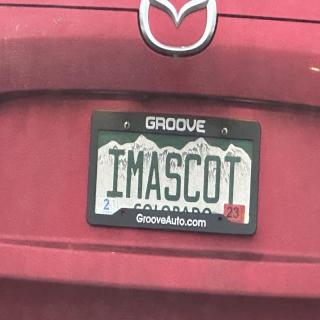license: (87, 112, 261, 237)
